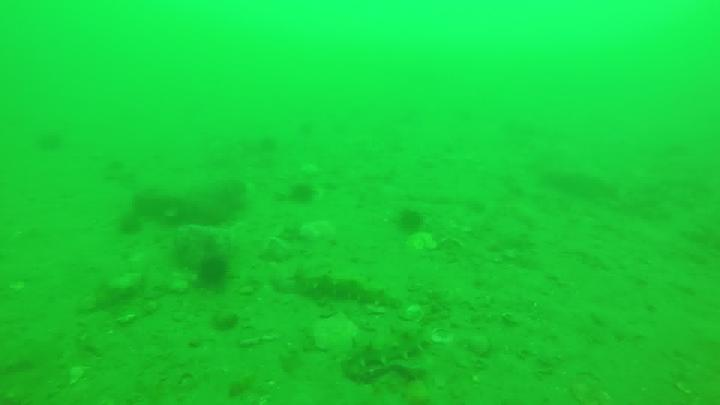echinus: (198, 253, 232, 290), (291, 182, 317, 206), (401, 209, 423, 233)
holothurian: (343, 332, 435, 384), (293, 273, 398, 312)
scallop: (409, 234, 440, 251), (400, 304, 425, 325)
